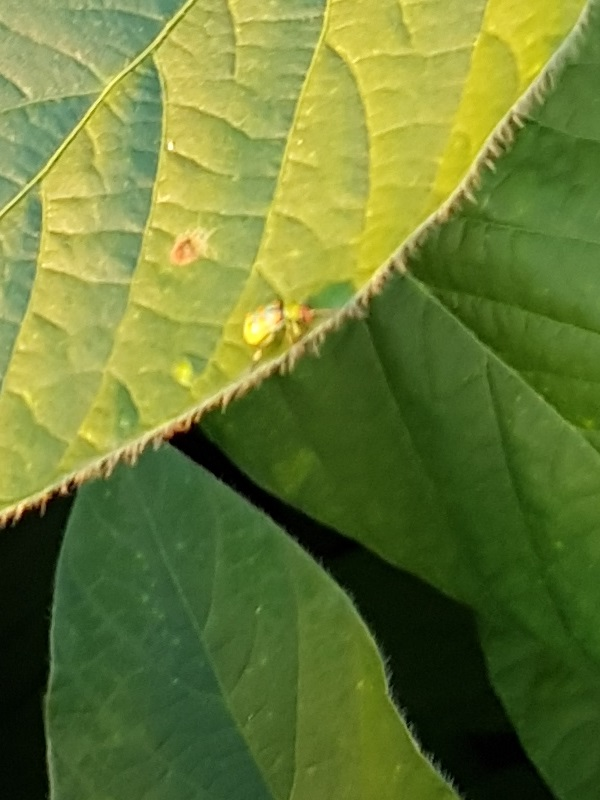Diabrotica_speciosa: (226, 285, 338, 378)
